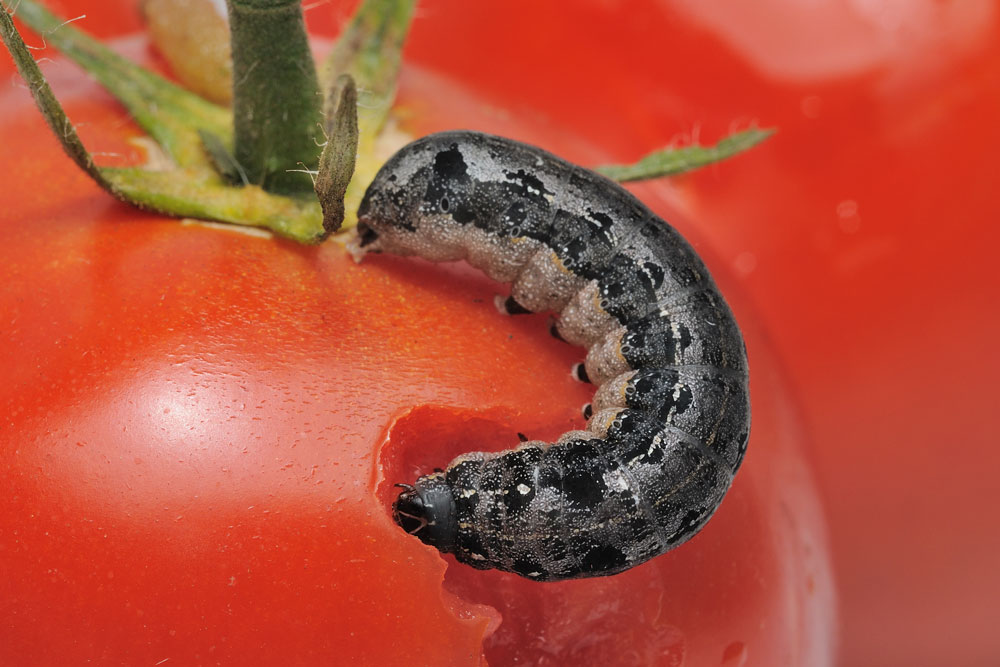Armyworm: (345, 115, 761, 575)
